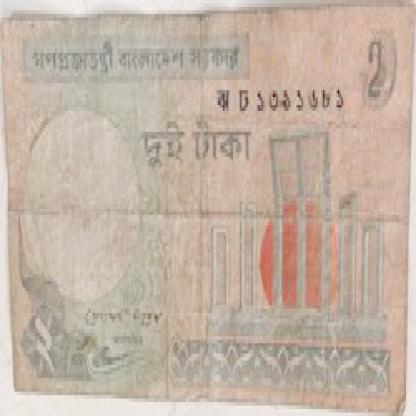two taka: (25, 302, 65, 392), (359, 35, 391, 111)
